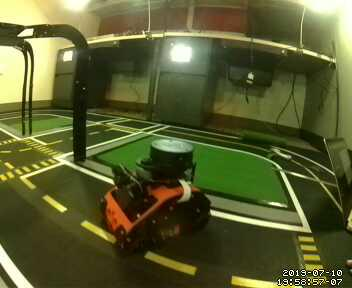pheeno: (97, 133, 214, 256)
